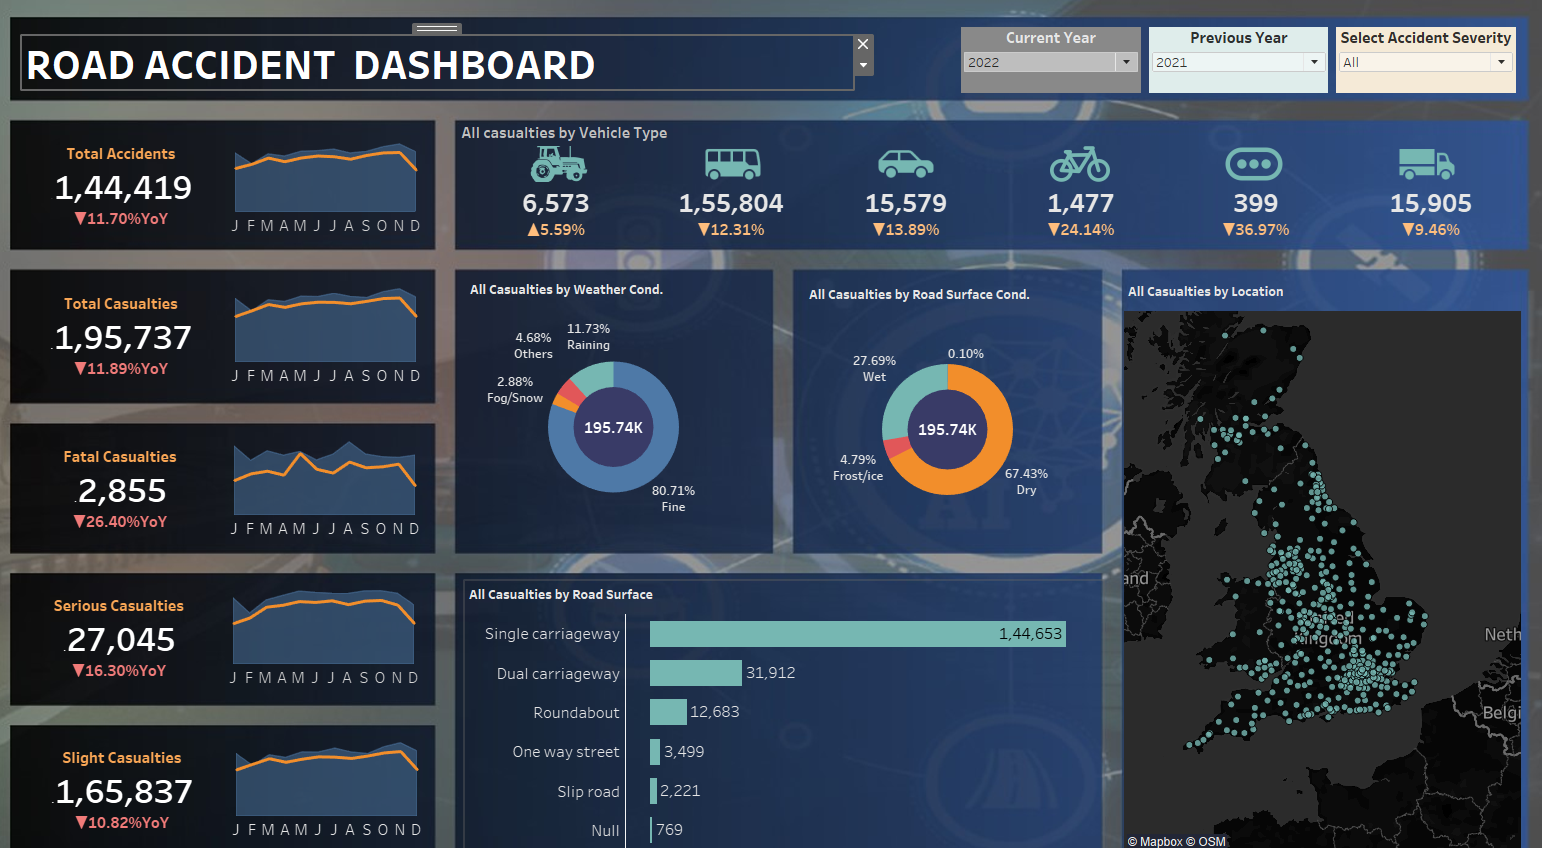

The page's visual inventory and layout, read from the dashboard file:
{"tool":"tableau","page":{"name":"Dashboard 1","canvas":[1600,900],"ordinal":0},"visuals":[{"type":"image","param":"C:/Users/user/OneDrive/Desktop/Tableau/Youtube Project/1st/Background.jpg","box":[8,8,1584,884]},{"type":"parameter","param":"[Parameters].[Parameter 1]","box":[986,36,187.7,74]},{"type":"parameter","param":"[Parameters].[Current Year (copy)_1791306796239003652]","box":[1173.7,36,187.7,74]},{"type":"parameter","param":"[Parameters].[Parameter 2]","box":[1361.3,36,187.7,74]},{"type":"text","box":[51,49,831,53]},{"type":"text","box":[487,133,410,24]},{"type":"worksheet","title":"Total Accident","mark":"Automatic","box":[47,144,205,110]},{"type":"worksheet","title":"Accident Sparkline","mark":"Automatic","rows":["Cy Accident (copy)_1791306796241133574","Calculation_1791306796240035845"],"cols":["Accident Date"],"box":[252,144,205,110]},{"type":"worksheet","title":"Vehicle type image","mark":"Shape","box":[497,155,1050,40]},{"type":"worksheet","title":"Vehicle type KPI","mark":"Automatic","box":[497,195,1050,60]},{"type":"worksheet","title":"Whether condition","mark":"Pie","rows":["Calculation_1373316456070778881","Calculation_1373316456070852611"],"box":[491,285,303,277]},{"type":"worksheet","title":"Road Surface condition","mark":"Pie","rows":["Calculation_1373316456070778881","Calculation_1373316456070852611"],"box":[830,290,293,272]},{"type":"worksheet","title":"map","mark":"Multipolygon","rows":["Latitude"],"cols":["Longitude"],"box":[1153,291,397,572]},{"type":"worksheet","title":"Total Casualties","mark":"Automatic","box":[47,294,205,110]},{"type":"worksheet","title":"Casualties Sparkline","mark":"Automatic","rows":["Py Accident  (copy)_1791306796262182921","Cy Accident (copy)_1791306796261093384"],"cols":["Accident Date"],"box":[252,294,205,110]},{"type":"worksheet","title":"Fatal Casualties","mark":"Automatic","box":[46,447,205,110]},{"type":"worksheet","title":"Fatal Casualties Sparkline","mark":"Automatic","rows":["Py Casualties (copy)_1791306796263120908","Calculation_1791306796263297038"],"cols":["Accident Date"],"box":[251,447,205,110]},{"type":"worksheet","title":"Sheet 15","mark":"Automatic","rows":["Road_Type"],"cols":["Cy Accident (copy)_1791306796261093384"],"box":[494,594,638,269]},{"type":"worksheet","title":"Serious Casualties ","mark":"Automatic","box":[45,596,205,110]},{"type":"worksheet","title":"Serious Casualties Sparkline","mark":"Automatic","rows":["Py Fatal Casualties (copy)_1791306796268744724","Cy Fatal Casualties (copy)_1791306796266344463"],"cols":["Accident Date"],"box":[250,596,205,110]},{"type":"worksheet","title":"Slight Casualties ","mark":"Automatic","box":[48,748,205,110]},{"type":"worksheet","title":"Slight Casualties Sparkline","mark":"Automatic","rows":["Py Fatal Casualties (copy)_1791306796266504208","Cy Serious Casualties  (copy)_1791306796267888658"],"cols":["Accident Date"],"box":[253,748,205,110]}]}

Visuals, with their boxes in screenshot pixels (x1, y1, x2, y2), scaled from the page's 1600x900 canvas onto the 1542x848 screenshot:
image: region(8, 8, 1534, 840)
parameter: region(950, 34, 1131, 104)
parameter: region(1131, 34, 1312, 104)
parameter: region(1312, 34, 1493, 104)
text: region(49, 46, 850, 96)
text: region(469, 125, 864, 148)
"Total Accident" worksheet: region(45, 136, 243, 239)
"Accident Sparkline" worksheet: region(243, 136, 440, 239)
"Vehicle type image" worksheet (Shape marks): region(479, 146, 1491, 184)
"Vehicle type KPI" worksheet: region(479, 184, 1491, 240)
"Whether condition" worksheet (Pie marks): region(473, 269, 765, 530)
"Road Surface condition" worksheet (Pie marks): region(800, 273, 1082, 530)
"map" worksheet (Multipolygon marks): region(1111, 274, 1494, 813)
"Total Casualties" worksheet: region(45, 277, 243, 381)
"Casualties Sparkline" worksheet: region(243, 277, 440, 381)
"Fatal Casualties" worksheet: region(44, 421, 242, 525)
"Fatal Casualties Sparkline" worksheet: region(242, 421, 439, 525)
"Sheet 15" worksheet: region(476, 560, 1091, 813)
"Serious Casualties " worksheet: region(43, 562, 241, 665)
"Serious Casualties Sparkline" worksheet: region(241, 562, 439, 665)
"Slight Casualties " worksheet: region(46, 705, 244, 808)
"Slight Casualties Sparkline" worksheet: region(244, 705, 441, 808)
